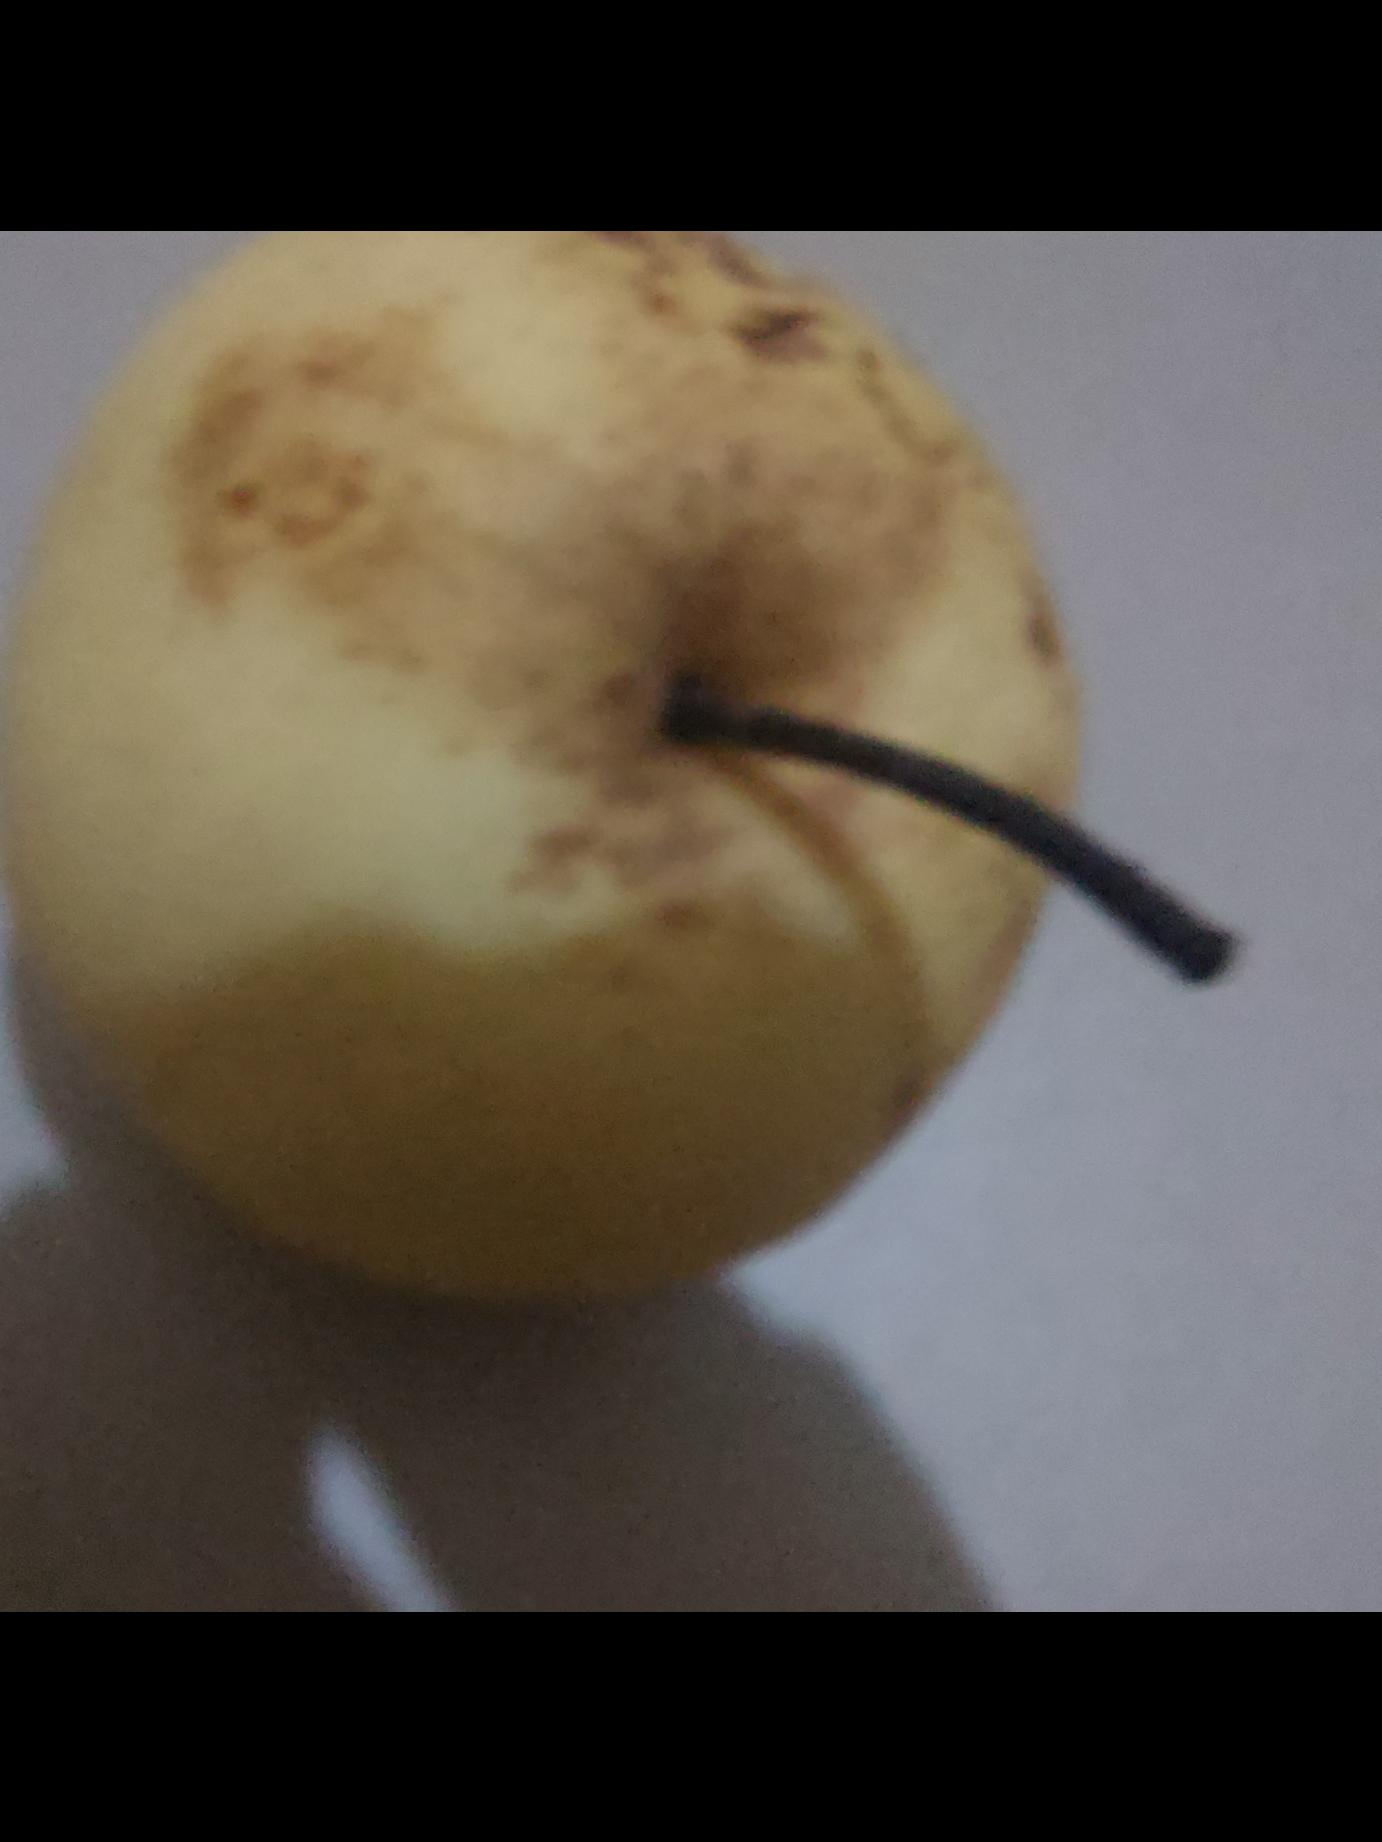Bad Pear: (0, 229, 1083, 1288)
